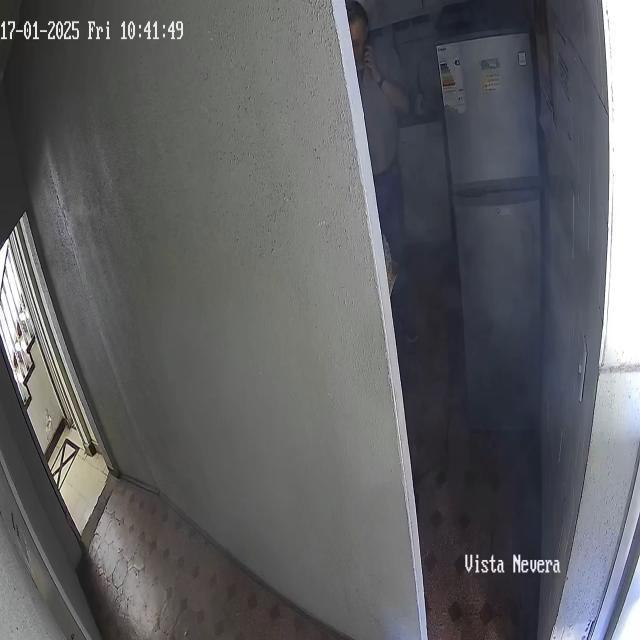fire: (388, 0, 594, 543)
